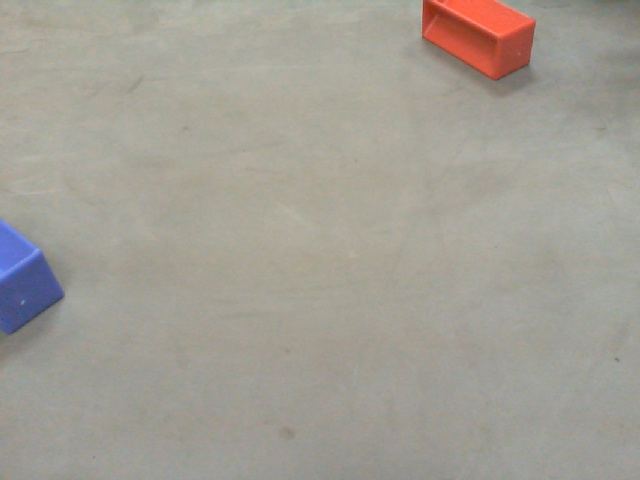BlueSample: (1, 215, 69, 338)
RedSample: (417, 1, 540, 82)
